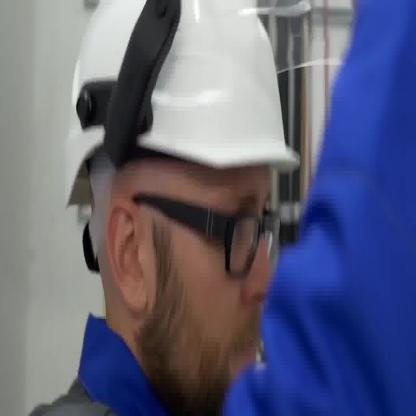helmet: (63, 0, 302, 216)
